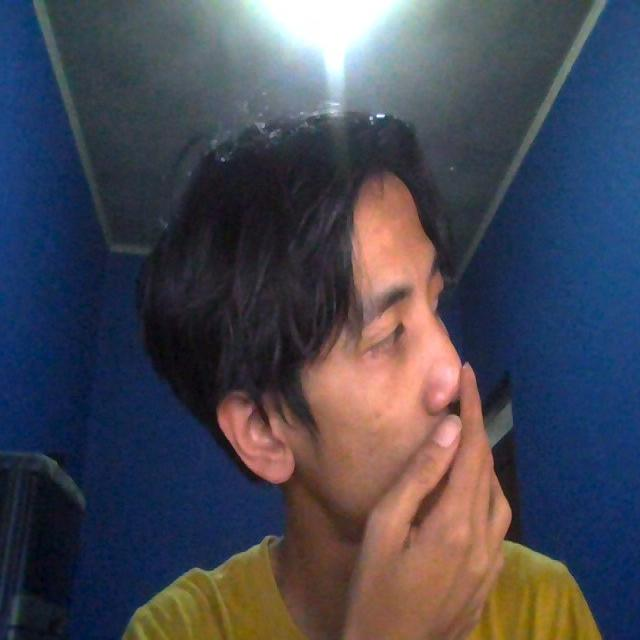melihat kekiri: (138, 82, 518, 518)
movement: (328, 350, 524, 640)
